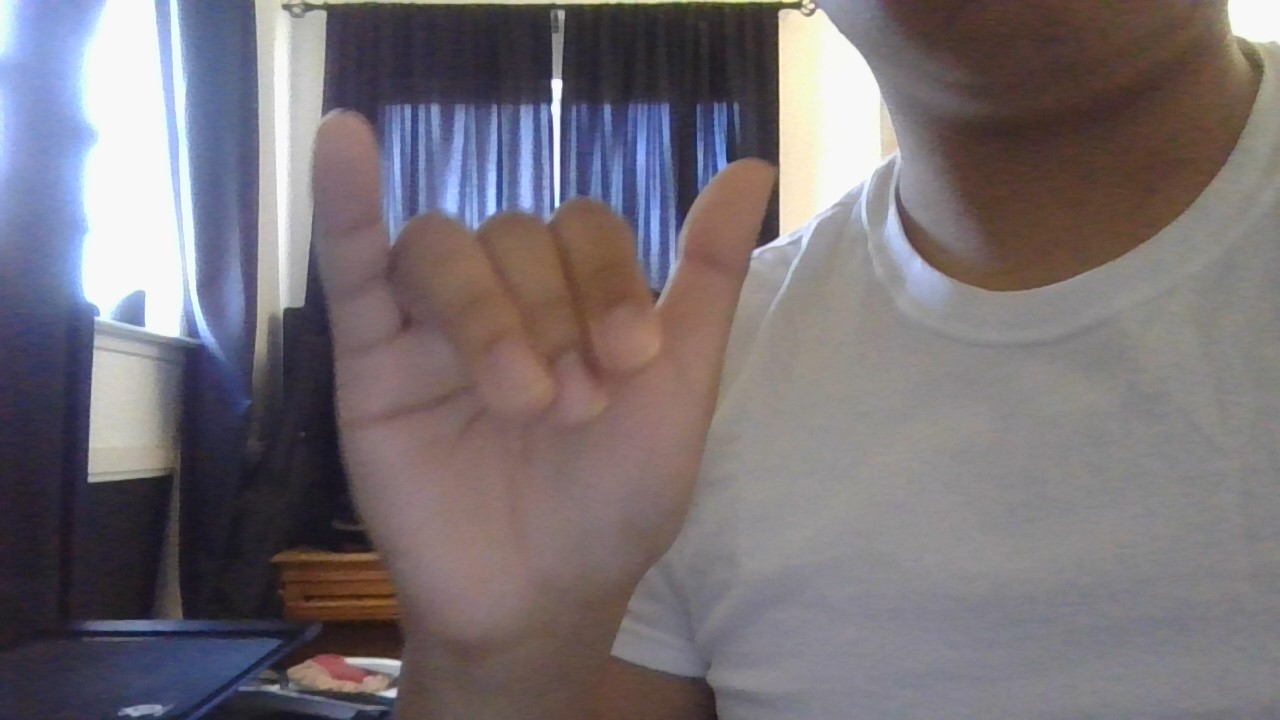y: (282, 87, 803, 678)
